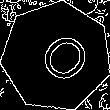O_SW: (23, 23, 90, 90)
